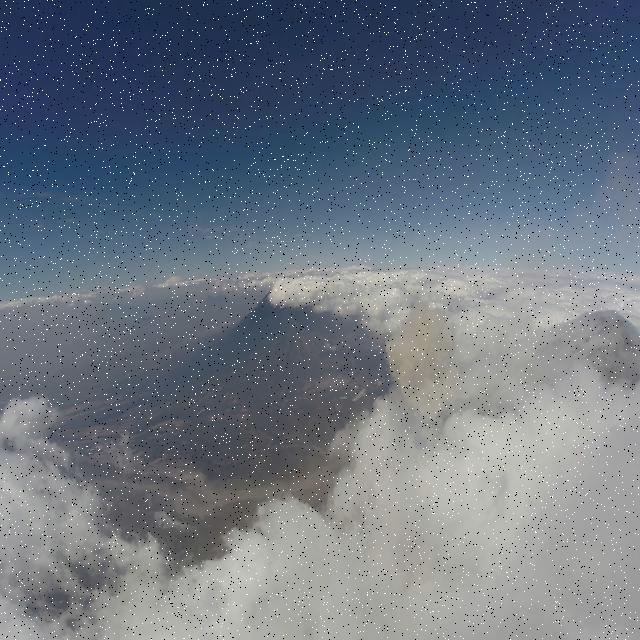Plume: (379, 300, 462, 424)
